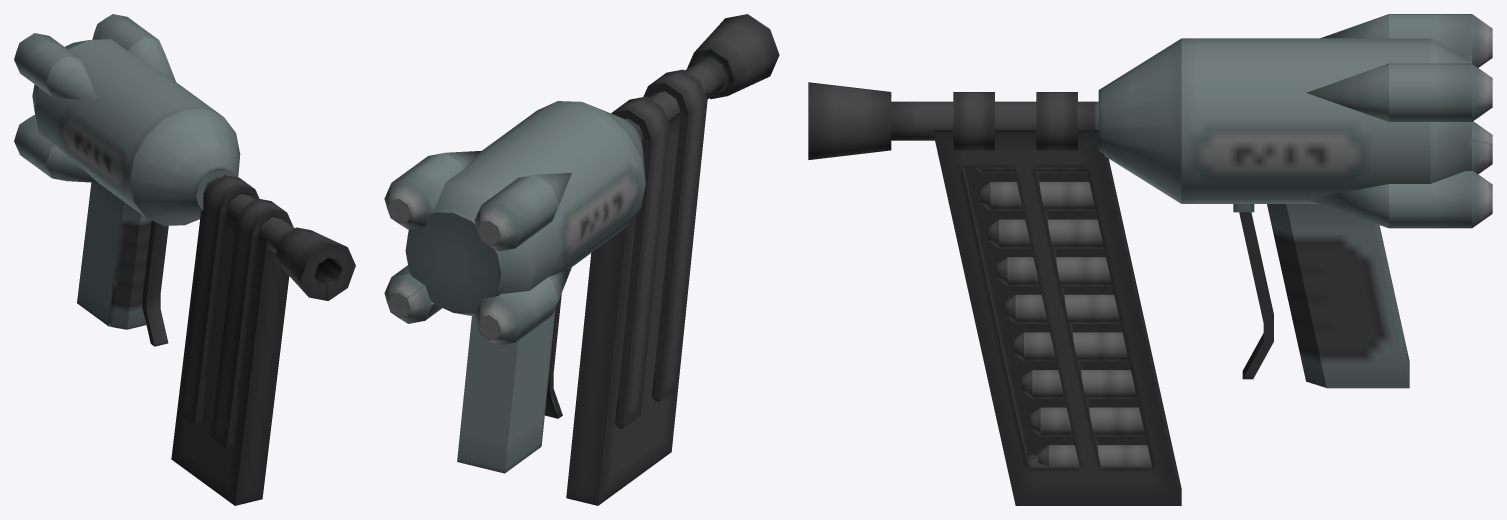
File: boltgun.obj
The picture shows the model from 3 angles, left to right: view 1: azimuth 30°, elevation 25°; view 2: azimuth 150°, elevation 25°; view 3: azimuth 270°, elevation 25°; orthographic projection. The views are drawn at different scales.
Parts seen in each view (by area): view 1: Gun, Barrel; view 2: Gun, Barrel; view 3: Gun, Barrel.
Part boxes in pixels (x1=…): Gun: x1=14, y1=14, x2=293, y2=505; Barrel: x1=203, y1=176, x2=355, y2=300; Gun: x1=384, y1=69, x2=708, y2=505; Barrel: x1=625, y1=14, x2=779, y2=139; Gun: x1=932, y1=14, x2=1492, y2=505; Barrel: x1=808, y1=82, x2=1098, y2=159.
Size of the model in its own units: 2.16 by 6.08 by 8.25.
